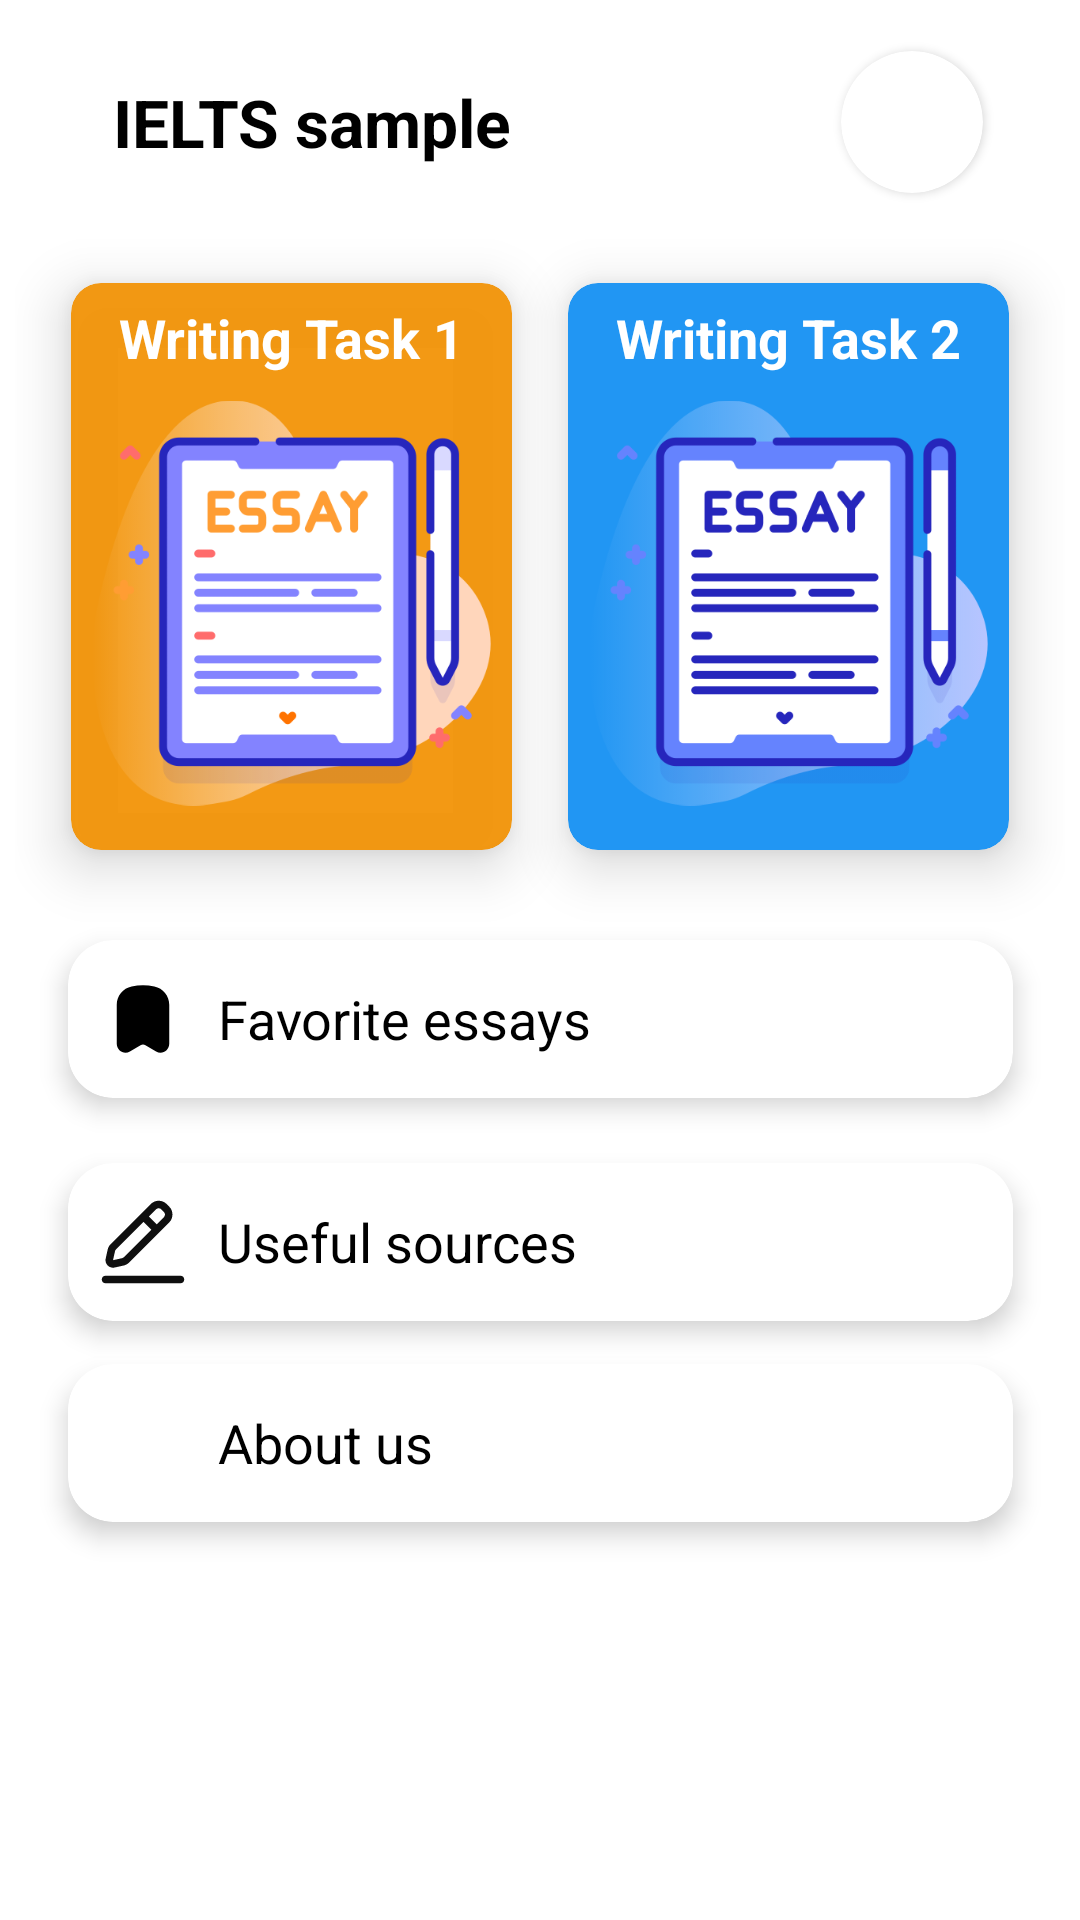

Named icons in this screenshot (1080x1920) and their bounding boxes, bbox(x1, y1, x2, y2):
saved: bbox(116, 985, 170, 1053)
write: bbox(101, 1200, 185, 1284)
